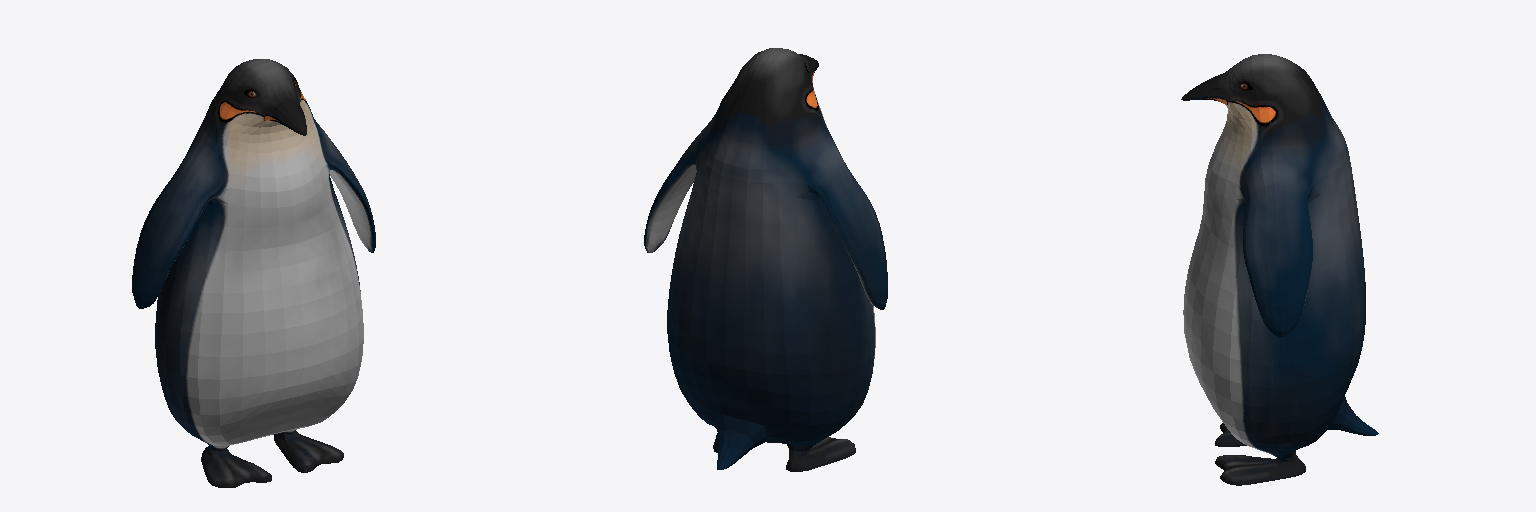
3 views of the same model, side by side, from view 1: azimuth 30°, elevation 25°; view 2: azimuth 150°, elevation 25°; view 3: azimuth 270°, elevation 25° (orthographic).
Parts seen in each view (by area): view 1: Penguin_CH.001; view 2: Penguin_CH.001; view 3: Penguin_CH.001.
Boxes of the visible parts, x1=… form: Penguin_CH.001: x1=132, y1=59, x2=375, y2=487; Penguin_CH.001: x1=644, y1=48, x2=887, y2=471; Penguin_CH.001: x1=1181, y1=54, x2=1378, y2=485.
Size of the model in its own units: 90.11 by 145 by 65.48.
Materials: 1 (1 with a texture image).